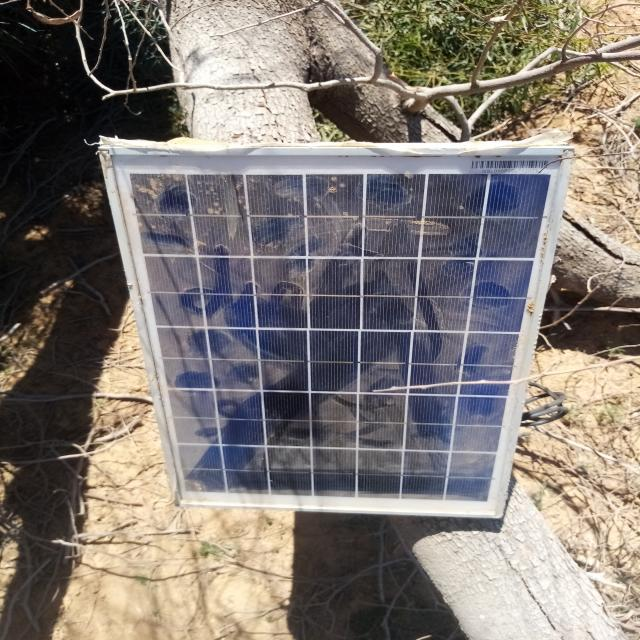faulty: (107, 149, 566, 518)
